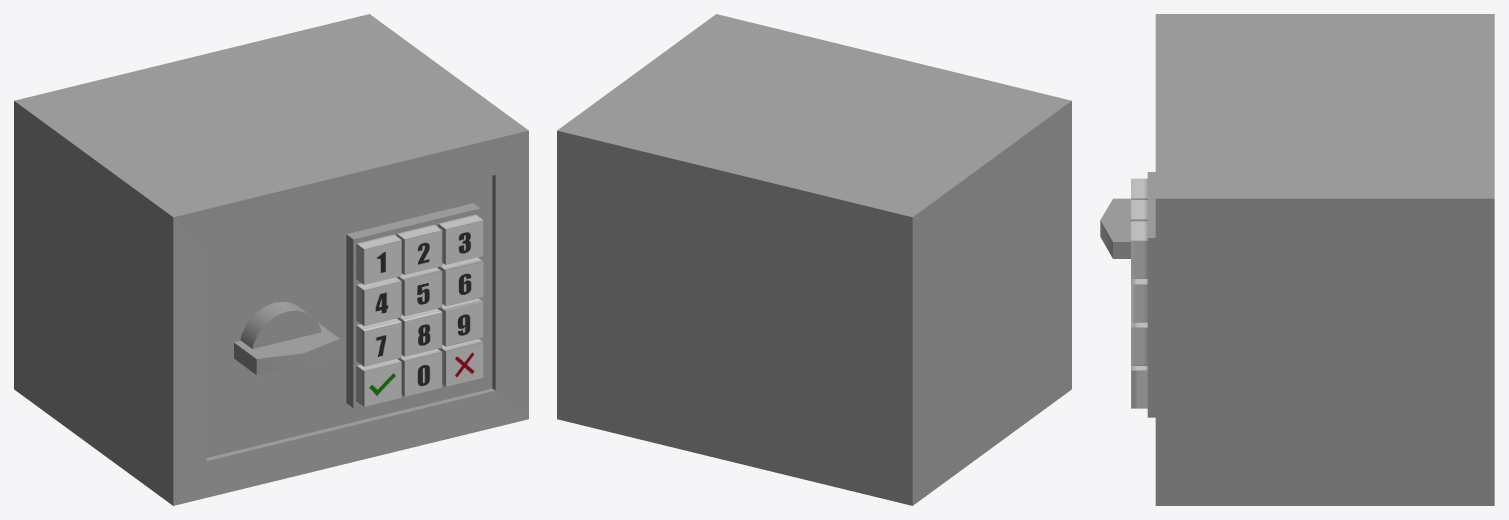
Rendered from Safe_greybox.fbx.
The picture shows the model from 3 angles, left to right: view 1: azimuth 30°, elevation 25°; view 2: azimuth 150°, elevation 25°; view 3: azimuth 270°, elevation 25°; orthographic projection. The views are drawn at different scales.
Parts seen in each view (by area): view 1: safe_box, safe_door, safe_handle, safe_button_1, safe_button_4, safe_button_7, safe_button_tick, safe_button_2, safe_button_3, safe_button_6, safe_button_5, safe_button_9 (+3 smaller); view 2: safe_box; view 3: safe_box, safe_door, safe_handle, safe_button_3, safe_button_6, safe_button_9, safe_button_cross.
Part boxes in pixels (bbox=[...]): safe_box: bbox=[14, 14, 528, 505]; safe_door: bbox=[206, 176, 492, 457]; safe_handle: bbox=[234, 301, 339, 386]; safe_button_1: bbox=[356, 234, 401, 284]; safe_button_4: bbox=[356, 277, 401, 326]; safe_button_7: bbox=[356, 318, 401, 366]; safe_button_tick: bbox=[356, 359, 401, 406]; safe_button_2: bbox=[396, 224, 442, 274]; safe_button_3: bbox=[438, 214, 483, 264]; safe_button_6: bbox=[438, 257, 483, 306]; safe_button_5: bbox=[396, 267, 442, 316]; safe_button_9: bbox=[438, 298, 483, 346]; safe_box: bbox=[557, 14, 1071, 505]; safe_box: bbox=[1155, 14, 1494, 505]; safe_door: bbox=[1147, 172, 1155, 417]; safe_handle: bbox=[1100, 198, 1130, 258]; safe_button_3: bbox=[1131, 221, 1147, 278]; safe_button_6: bbox=[1131, 279, 1147, 322]; safe_button_9: bbox=[1131, 322, 1147, 365]; safe_button_cross: bbox=[1131, 366, 1147, 408].
Size of the model in its own units: 38.38 by 29.78 by 34.61.
